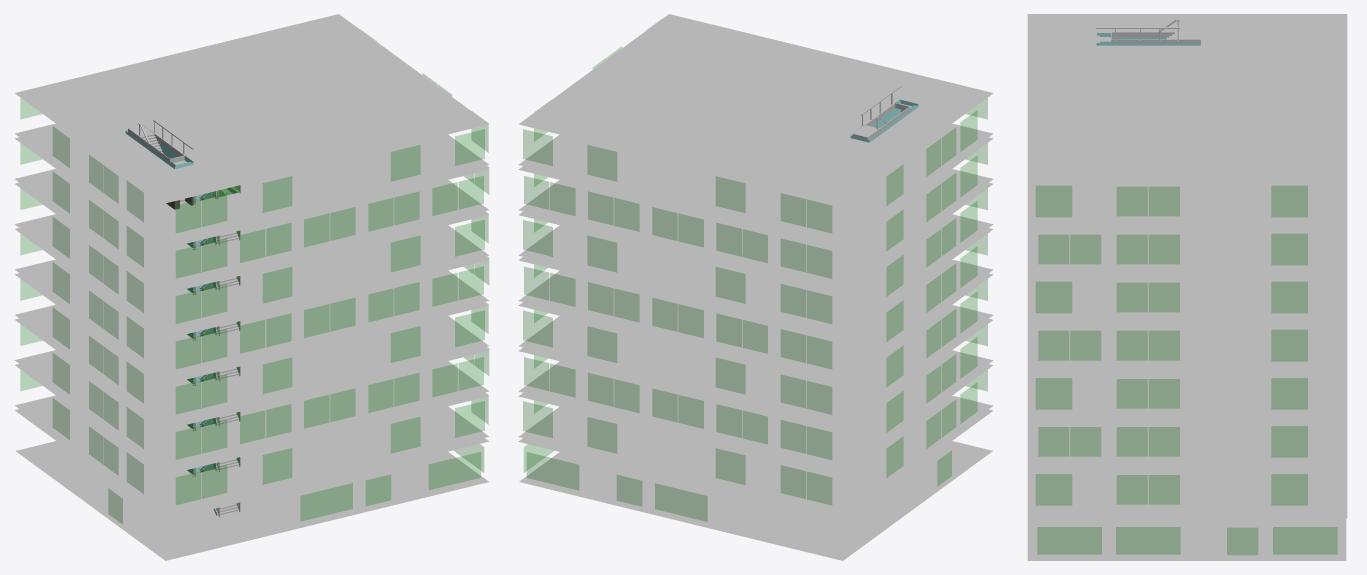
The model's file is SM_Building22_V1_Interior.fbx.
The picture shows the model from 3 angles, left to right: view 1: azimuth 30°, elevation 25°; view 2: azimuth 150°, elevation 25°; view 3: azimuth 270°, elevation 25°; orthographic projection. The views are drawn at different scales.
Visible parts, largest first — view 1: SM_Building22_V1_Interior; view 2: SM_Building22_V1_Interior; view 3: SM_Building22_V1_Interior.
Part boxes in pixels (x1,y1,x2,y2): SM_Building22_V1_Interior: (14,14,489,560); SM_Building22_V1_Interior: (518,14,993,560); SM_Building22_V1_Interior: (1027,14,1347,560).
Size of the model in its own units: 3122 by 3453 by 2522.
